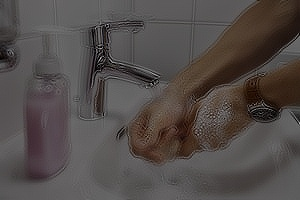washing hand: (83, 19, 261, 183)
